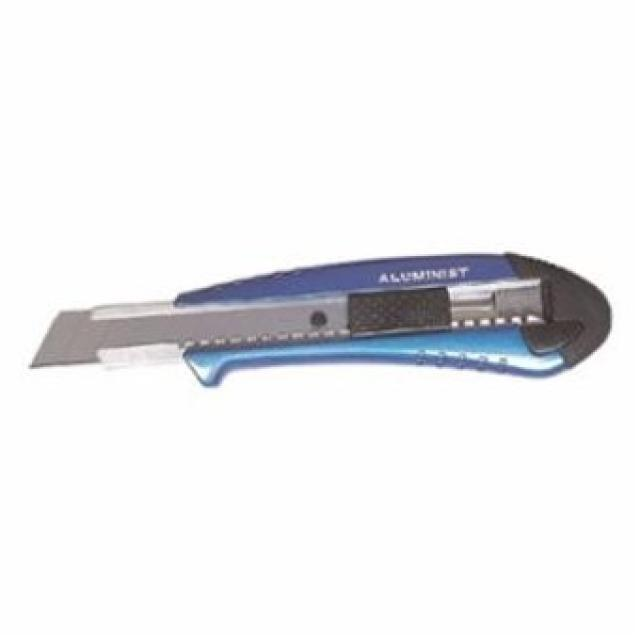cutter: (18, 233, 628, 417)
